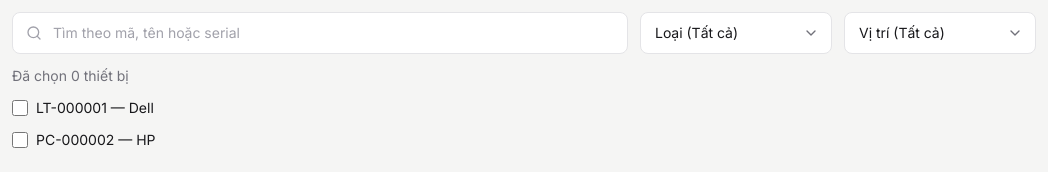
Scenario: lọc ra rỗng: báo không khớp
Type "zzz" into the search field named "Tìm thiết bị". click: {"x": 320, "y": 33}
box: [12, 12, 628, 54]
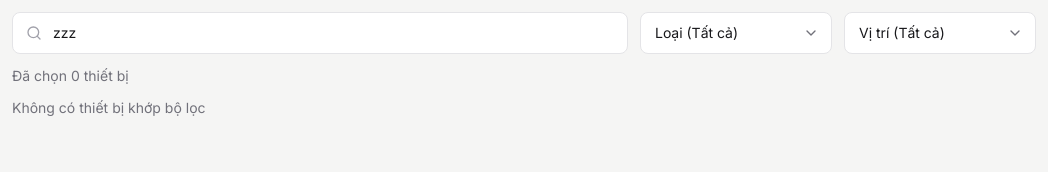
Check: the text "Không có thiết bị khớp bộ lọc" is shown, box [12, 99, 206, 116]
